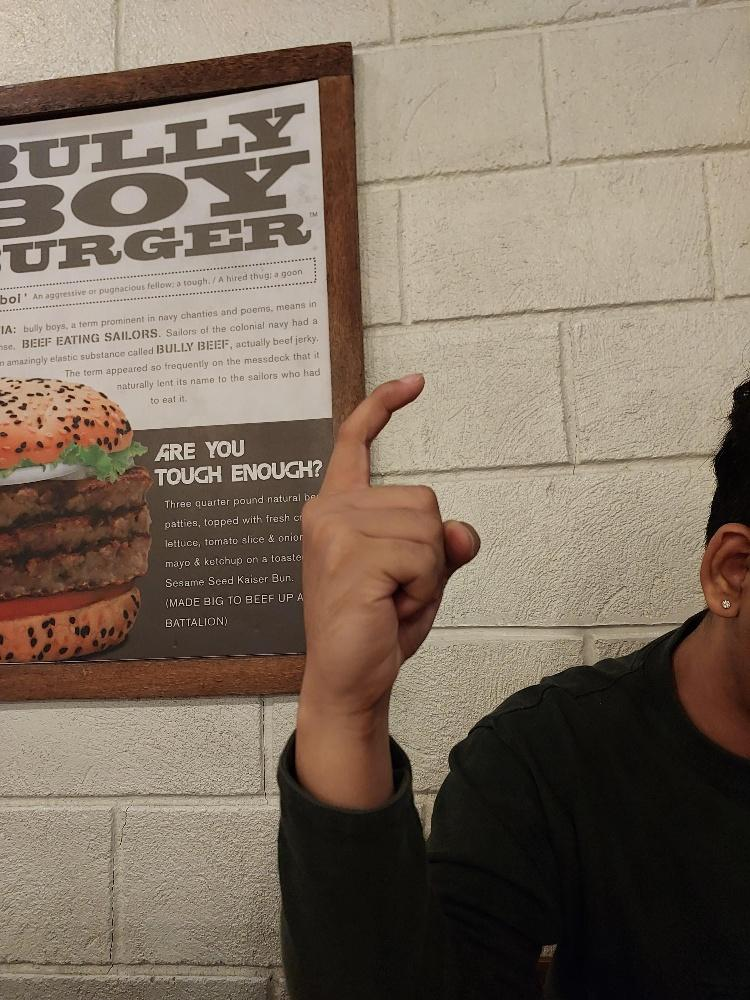x: (298, 368, 483, 713)
